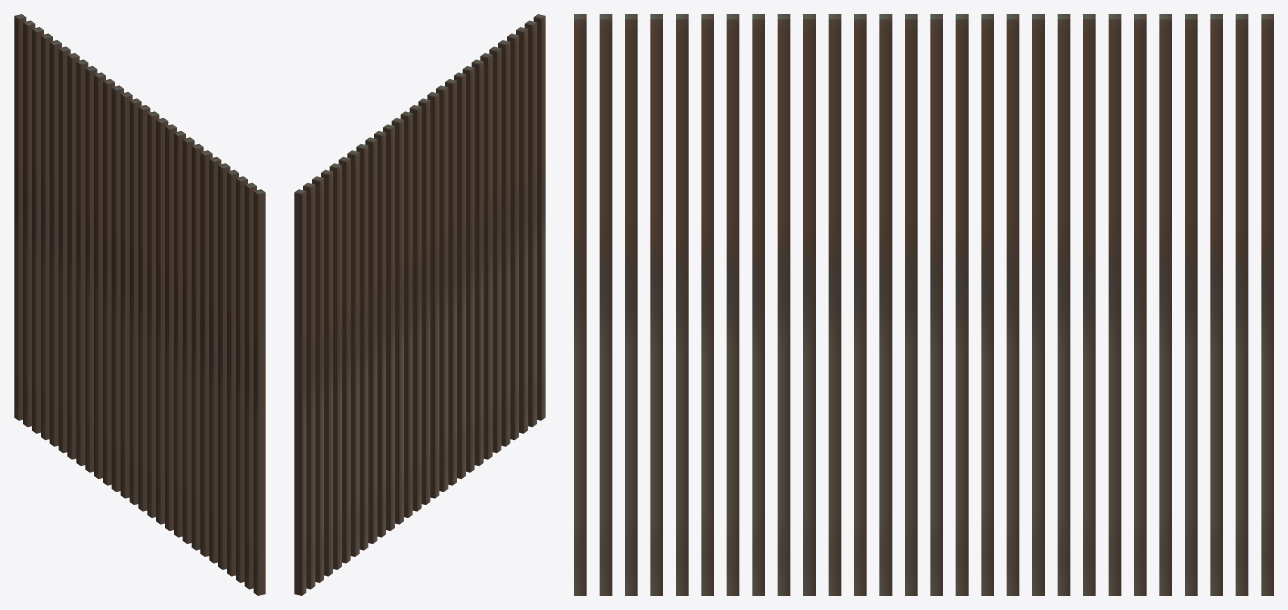
The model's file is StickPanel_01.obj.
3 renders of one model, left to right at view 1: azimuth 30°, elevation 25°; view 2: azimuth 150°, elevation 25°; view 3: azimuth 270°, elevation 25°, orthographic. The views are drawn at different scales.
Visible parts, largest first — view 1: StickPanel_01; view 2: StickPanel_01; view 3: StickPanel_01.
Part boxes in pixels (left/top/right/bottom): StickPanel_01: left=14, top=14, right=265, bottom=595; StickPanel_01: left=294, top=14, right=545, bottom=595; StickPanel_01: left=574, top=14, right=1273, bottom=595.
Size of the model in its own units: 0.05 by 2.5 by 2.75.
